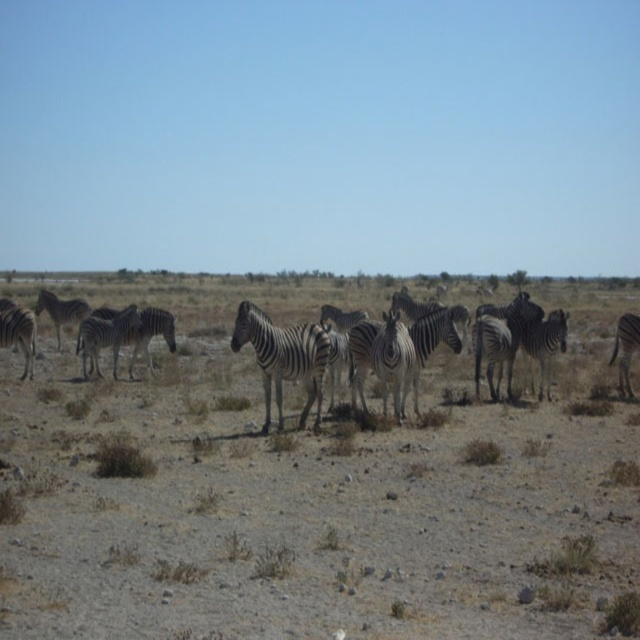Zebra: (0, 291, 640, 433)
